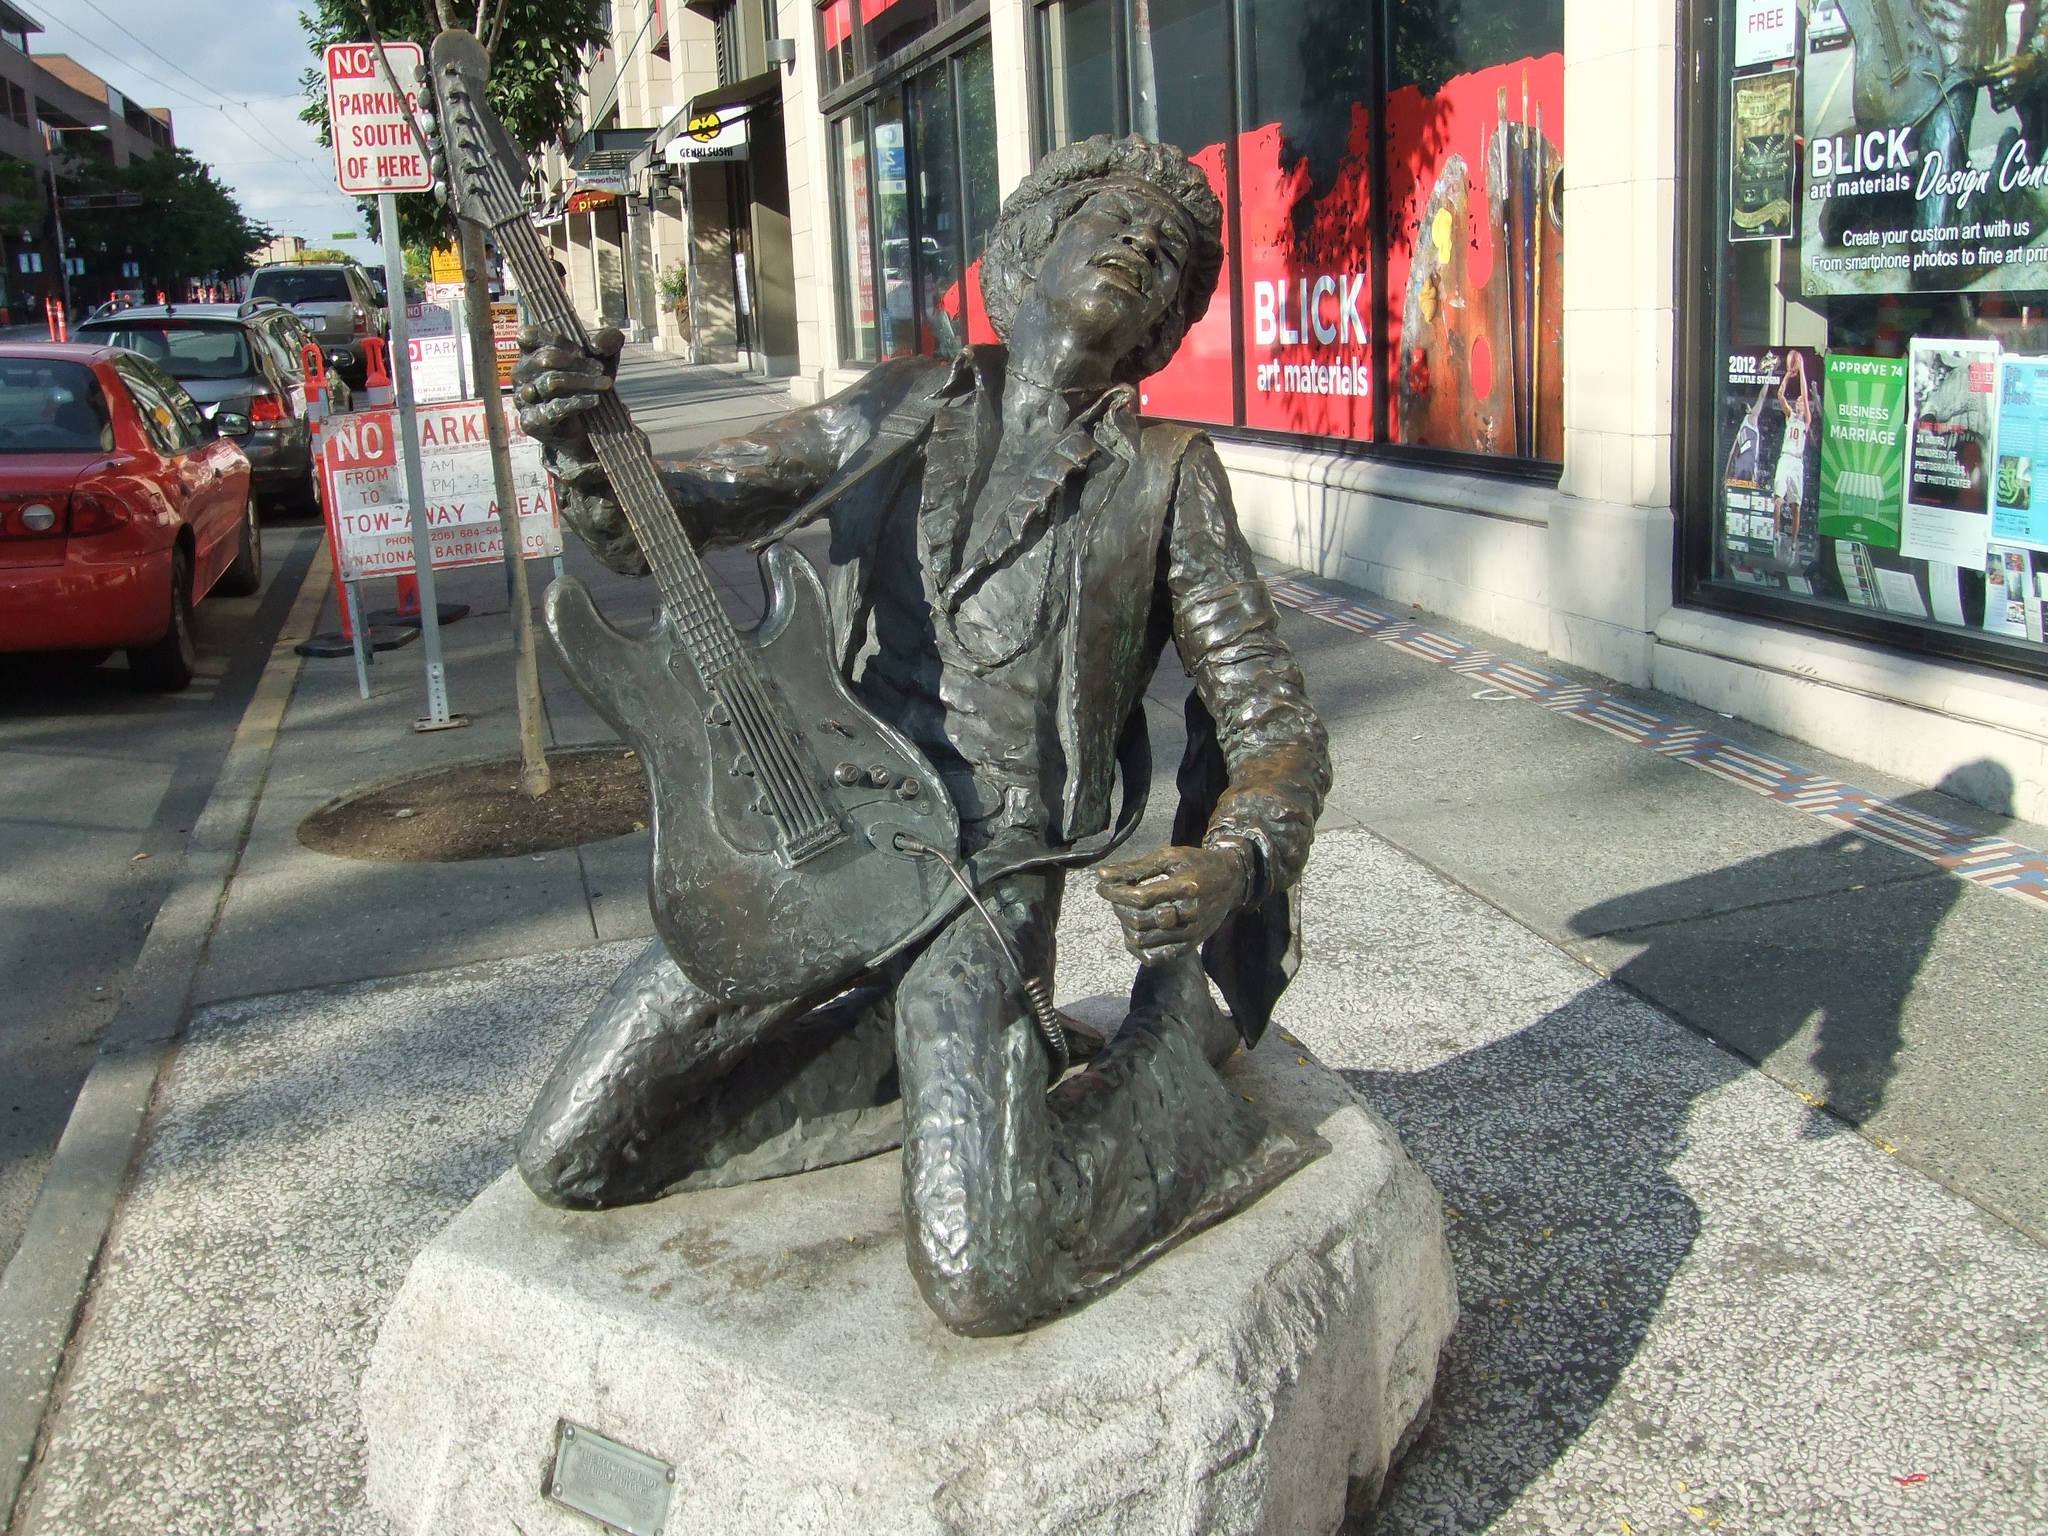person-like: (506, 121, 1349, 1354)
